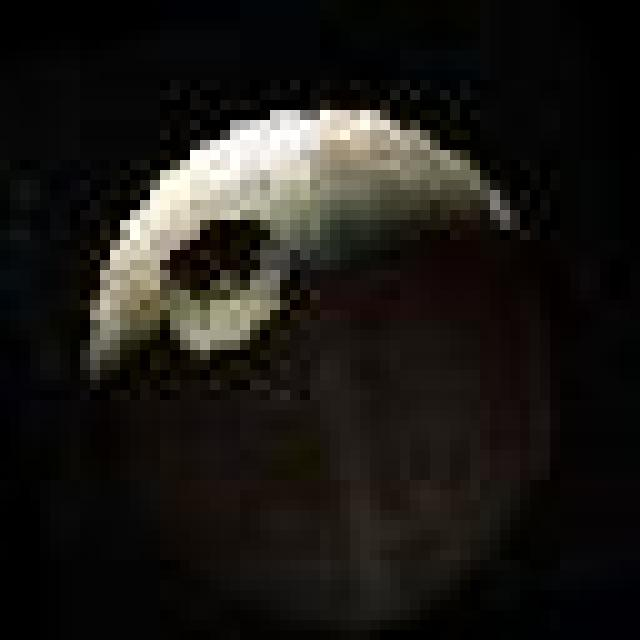Death Star: (70, 90, 530, 390)
